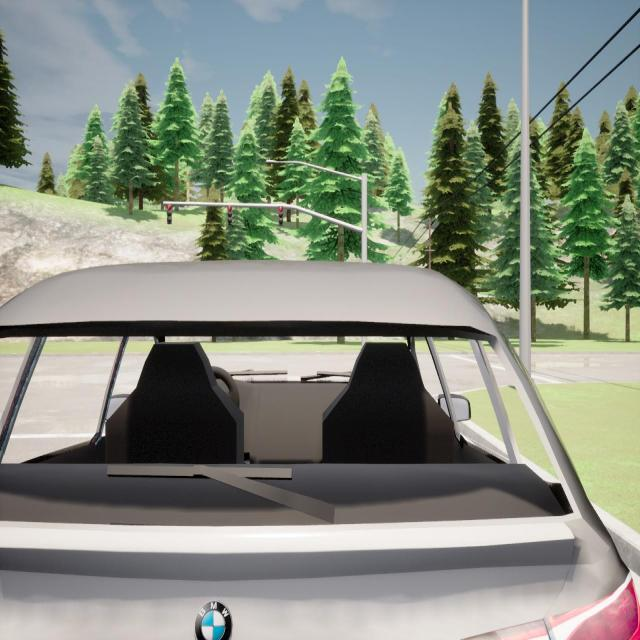Vehicle: (0, 261, 640, 638)
traffic_light: (227, 205, 233, 226), (167, 204, 172, 224), (279, 206, 283, 226)
